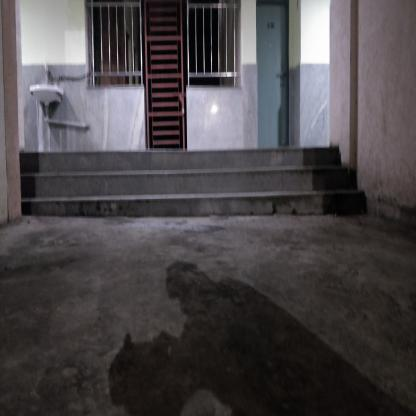stairs: (22, 146, 341, 222)
